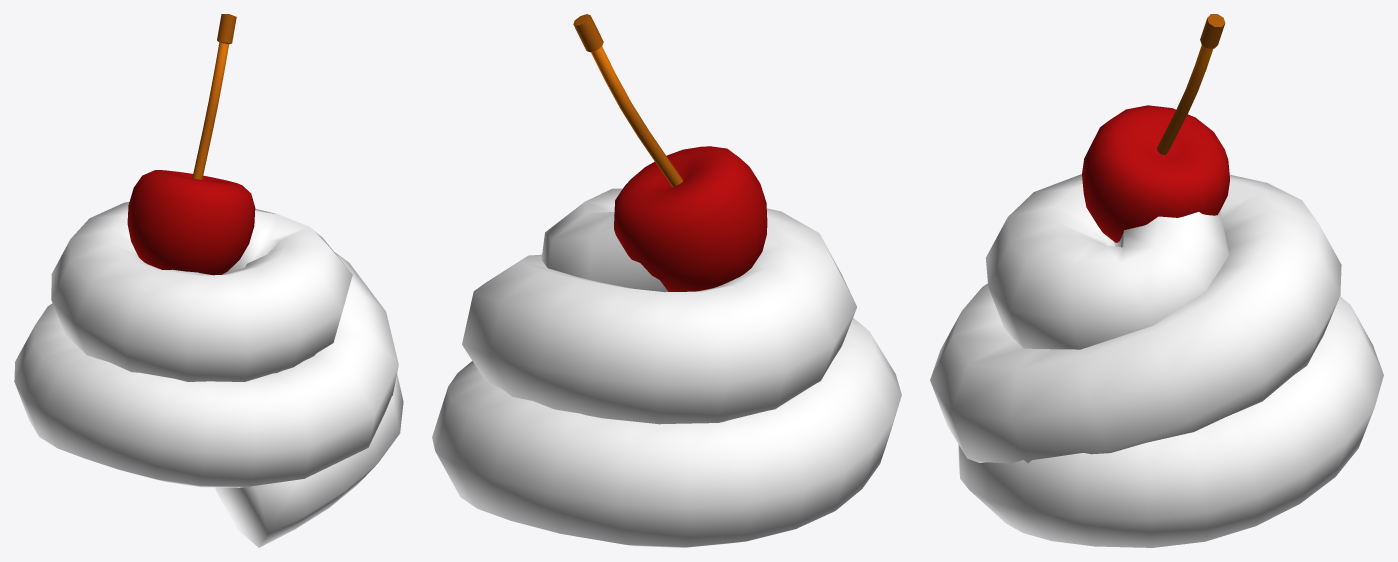
The model's file is Cupcake_top_02.003.fbx.
3 renders of one model, left to right at view 1: azimuth 30°, elevation 25°; view 2: azimuth 150°, elevation 25°; view 3: azimuth 270°, elevation 25°, orthographic. The views are drawn at different scales.
Parts seen in each view (by area): view 1: Cupcake_top_02.003; view 2: Cupcake_top_02.003; view 3: Cupcake_top_02.003.
Part boxes in pixels (left/top/right/bottom): Cupcake_top_02.003: left=14, top=14, right=403, bottom=547; Cupcake_top_02.003: left=432, top=14, right=901, bottom=547; Cupcake_top_02.003: left=930, top=14, right=1383, bottom=547.
Size of the model in its own units: 76.57 by 76.62 by 97.47.
